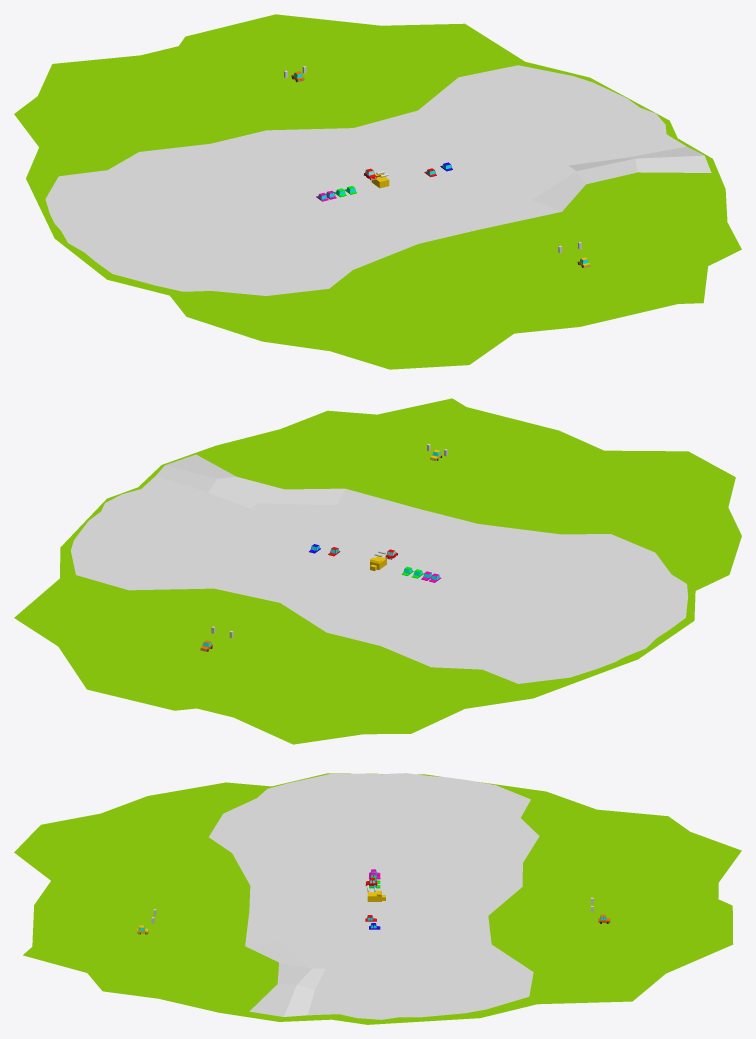
File: Gotthard_3.6.glb
The picture shows the model from 3 angles, top to bottom: view 1: azimuth 30°, elevation 25°; view 2: azimuth 150°, elevation 25°; view 3: azimuth 270°, elevation 25°; orthographic projection. The views are drawn at different scales.
Visible parts, largest first — view 1: Erde, Berge; view 2: Erde, Berge; view 3: Erde, Berge.
Boxes of the visible parts, bbox=[...] form: Erde: bbox=[14, 14, 741, 369]; Berge: bbox=[45, 65, 711, 295]; Erde: bbox=[14, 398, 741, 744]; Berge: bbox=[71, 454, 687, 683]; Erde: bbox=[14, 773, 741, 1024]; Berge: bbox=[209, 773, 539, 1019].
Bounding box in the file's own units: 12.14 × 0.4277 × 14.84.
9 materials, 9 textured.
